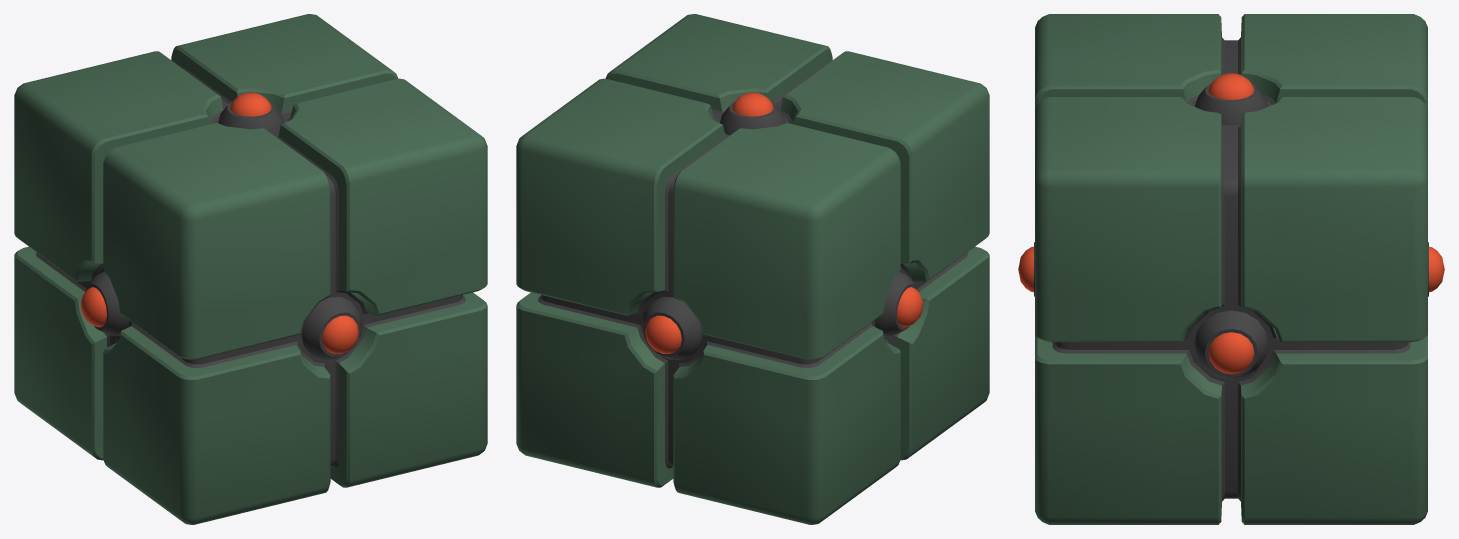
The model's file is GravityBomb.fbx.
3 views of the same model, side by side, from view 1: azimuth 30°, elevation 25°; view 2: azimuth 150°, elevation 25°; view 3: azimuth 270°, elevation 25° (orthographic). The views are drawn at different scales.
Visible parts, largest first — view 1: GravityBombMesh; view 2: GravityBombMesh; view 3: GravityBombMesh.
Part boxes in pixels (<box>): GravityBombMesh: <box>14,14,487,524</box>; GravityBombMesh: <box>516,14,989,524</box>; GravityBombMesh: <box>1018,14,1444,524</box>.
Size of the model in its own units: 54.25 by 54.25 by 54.25.
